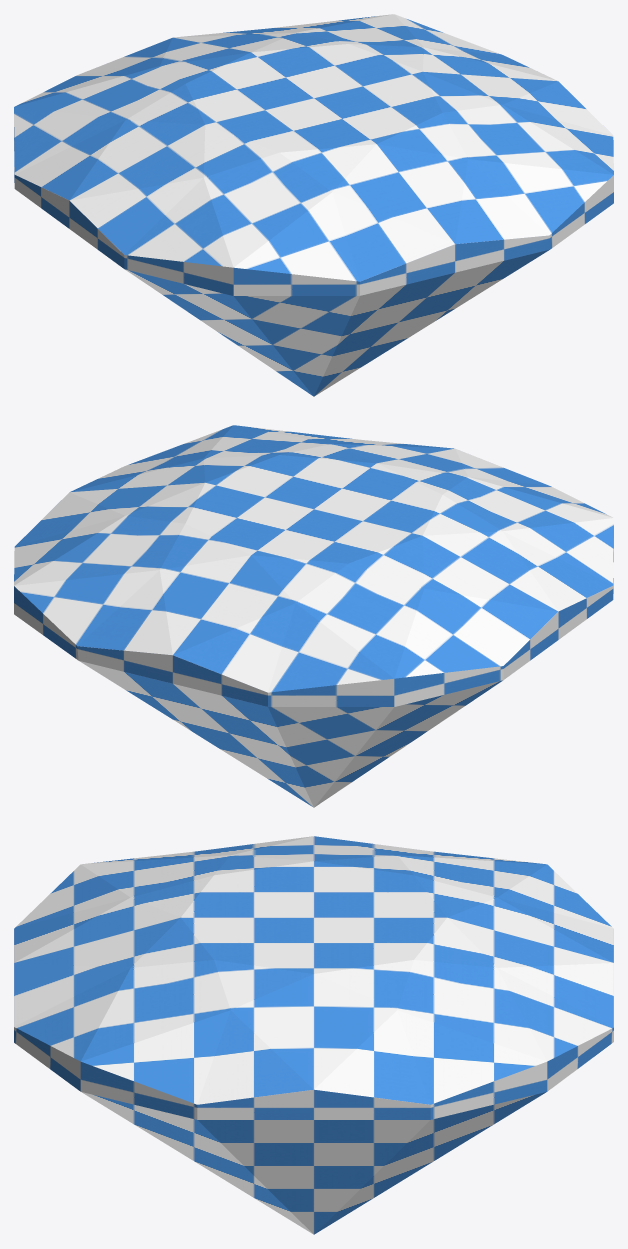
File: RoundCutPointy.FBX
3 renders of one model, top to bottom at view 1: azimuth 30°, elevation 25°; view 2: azimuth 150°, elevation 25°; view 3: azimuth 270°, elevation 25°, orthographic. The views are drawn at different scales.
Parts seen in each view (by area): view 1: RoundCutPointy; view 2: RoundCutPointy; view 3: RoundCutPointy.
Part boxes in pixels (x1,y1,x2,y2): RoundCutPointy: (14, 14, 613, 396); RoundCutPointy: (14, 425, 613, 807); RoundCutPointy: (14, 836, 613, 1234).
Size of the model in its own units: 1.14 by 0.6668 by 1.14.
